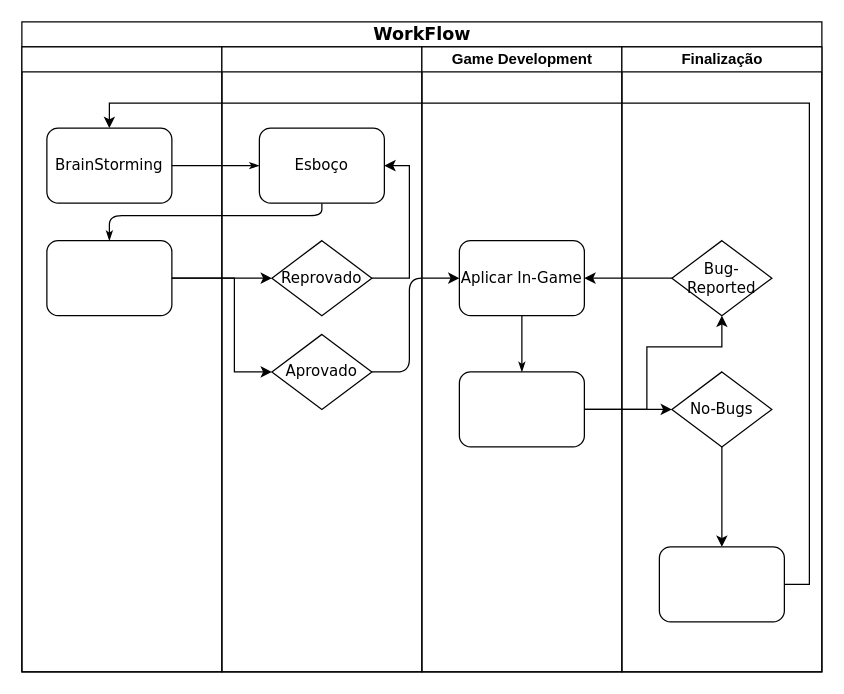
Image size: 844x694. Some labels were removed from this diagram. The shapes that lost their labels are listed below. From the top down, each one's box as (x1, y1, x2, y2) in pixels, then its label:
(46, 239, 172, 316): Aprovação
(21, 46, 222, 672): Pre-Development
(221, 46, 422, 672): Development
(458, 371, 584, 447): Debug
(658, 546, 784, 622): Documentar
